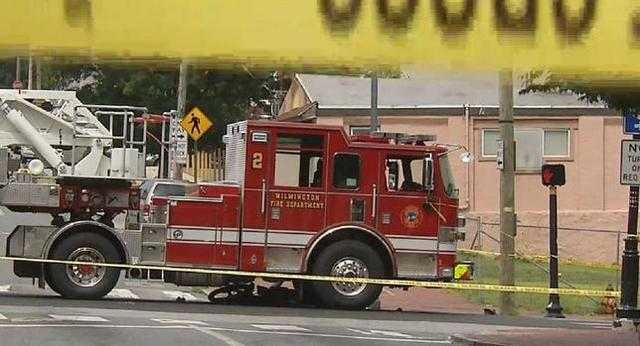Fire Truck: (0, 57, 507, 293)
